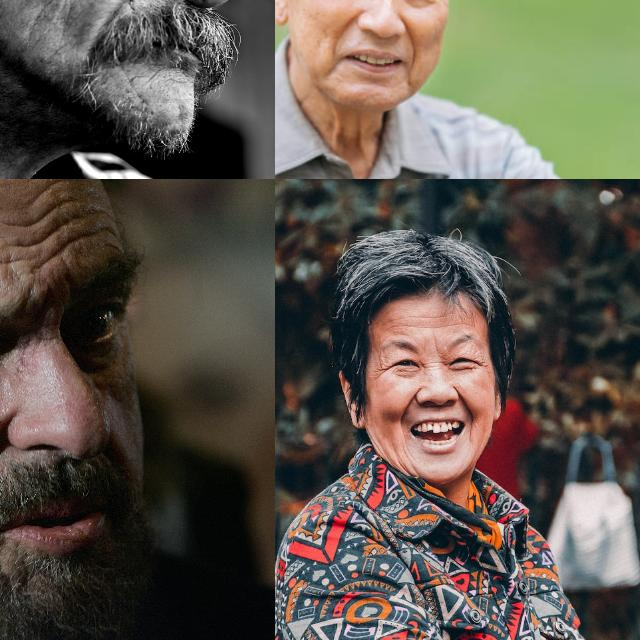crows_feet: (372, 360, 392, 380), (476, 357, 490, 373)
forehead: (24, 206, 70, 256), (74, 204, 114, 246), (400, 313, 464, 331), (0, 248, 23, 272)
frown_line: (421, 355, 445, 373)
gummy_smile: (333, 8, 363, 38), (454, 386, 476, 416), (400, 16, 416, 52), (397, 393, 419, 419)
masseter: (384, 441, 414, 473)
sad_smile: (465, 424, 479, 444)
